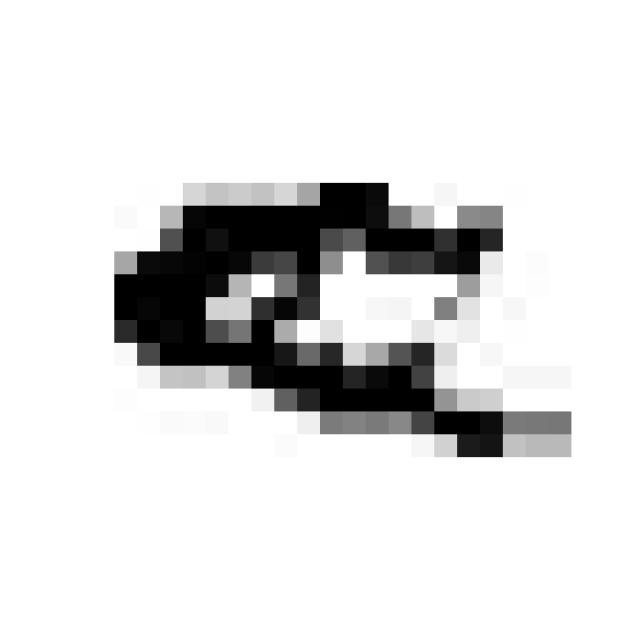0 -zero-: (93, 160, 594, 480)
